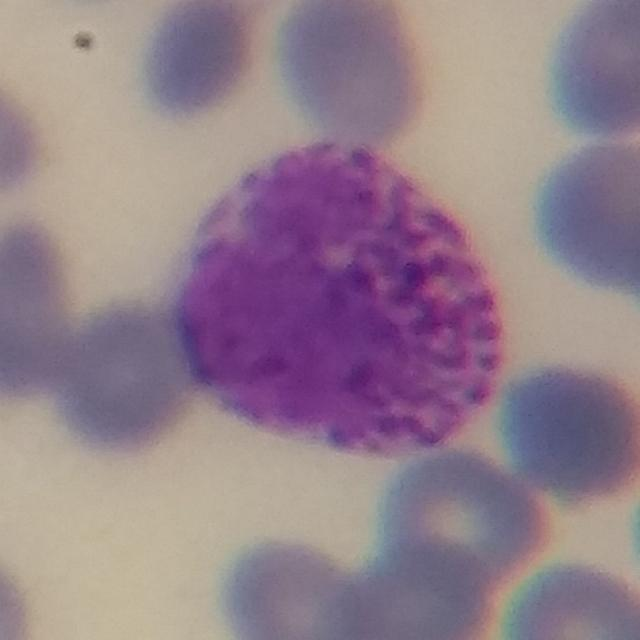baso: (164, 124, 518, 468)
